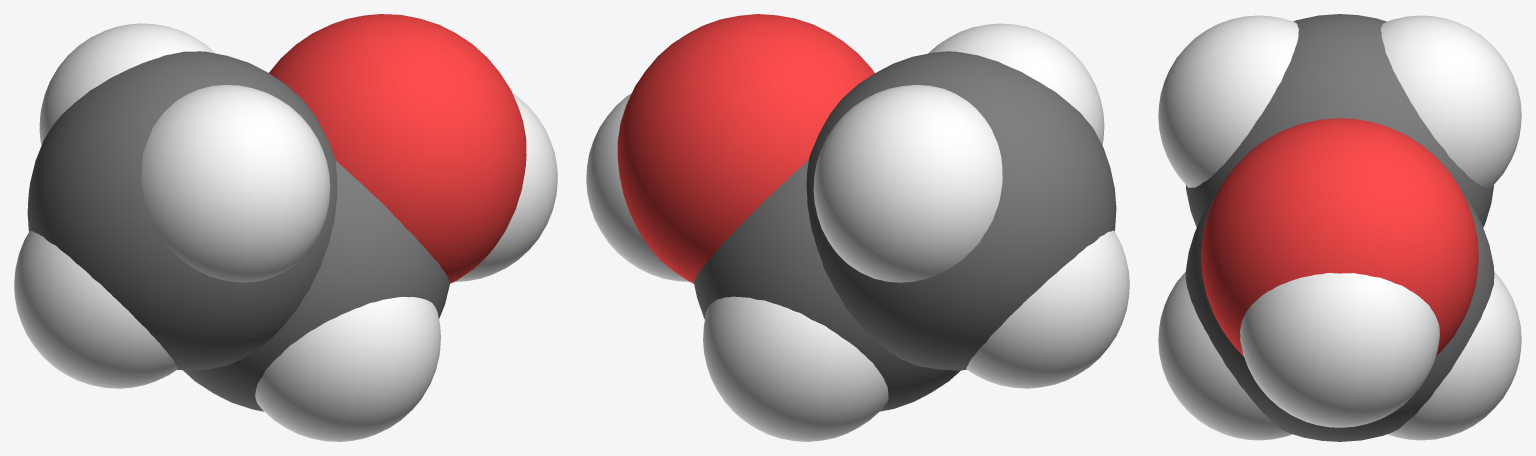
Rendered from ethanol.glb.
3 views of the same model, side by side, from view 1: azimuth 30°, elevation 25°; view 2: azimuth 150°, elevation 25°; view 3: azimuth 270°, elevation 25° (orthographic). The views are drawn at different scales.
Visible parts, largest first — view 1: Object_3, Object_2, Object_13, Object_14, Object_12; view 2: Object_3, Object_2, Object_13, Object_14, Object_12; view 3: Object_2, Object_13, Object_3, Object_14, Object_12.
Boxes of the visible parts, box(x1,y1,x2,y2) form: Object_3: box(27, 51, 450, 411); Object_2: box(269, 14, 526, 283); Object_13: box(39, 23, 330, 282); Object_14: box(14, 93, 557, 388); Object_12: box(255, 296, 440, 441); Object_3: box(694, 51, 1116, 411); Object_2: box(617, 14, 874, 283); Object_13: box(813, 23, 1104, 282); Object_14: box(586, 93, 1129, 388); Object_12: box(703, 296, 888, 441); Object_2: box(1201, 118, 1478, 356); Object_13: box(1158, 15, 1521, 187); Object_3: box(1185, 14, 1494, 441); Object_14: box(1240, 273, 1439, 427); Object_12: box(1158, 271, 1521, 440).
Bounding box in the file's own units: 6.33 × 4.28 × 3.98.
